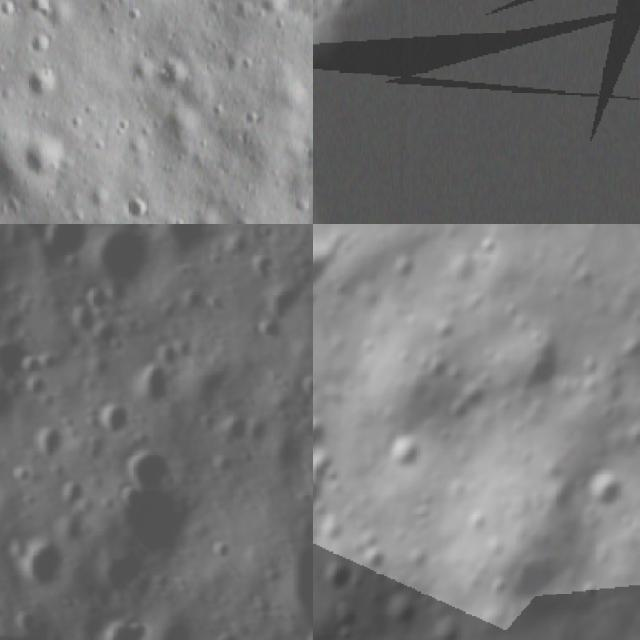crater: (482, 522, 591, 640), (573, 461, 634, 522), (115, 455, 173, 513), (22, 135, 82, 191), (373, 432, 432, 488), (515, 345, 569, 404), (316, 548, 363, 602), (313, 226, 344, 304), (25, 537, 65, 588), (313, 463, 341, 520), (82, 281, 120, 316), (134, 363, 174, 394), (0, 345, 38, 377), (160, 59, 194, 92), (313, 411, 334, 460), (103, 402, 132, 431), (99, 624, 147, 640)
